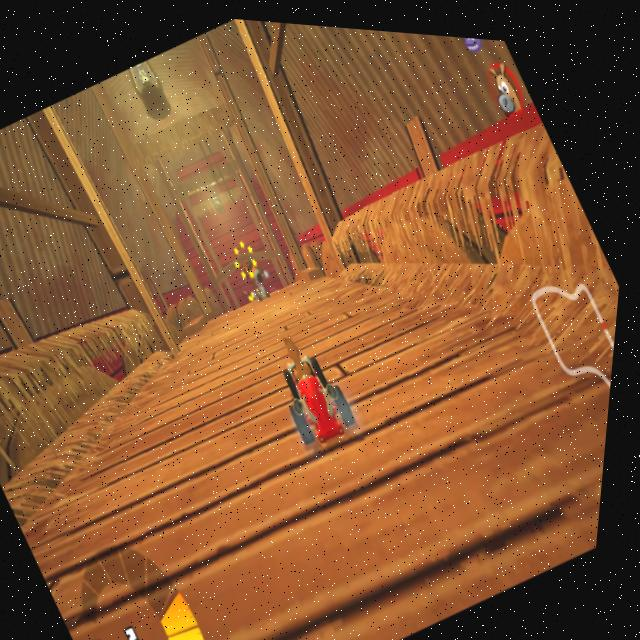enemy_kart: (234, 243, 295, 308)
player_kart: (249, 302, 384, 462)
track: (156, 305, 337, 524)
